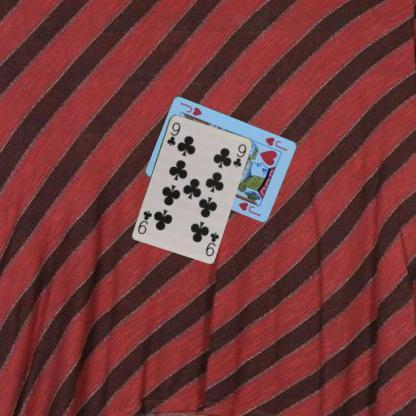9c: (203, 229, 221, 258), (164, 119, 182, 146)
Jh: (262, 134, 288, 152)
